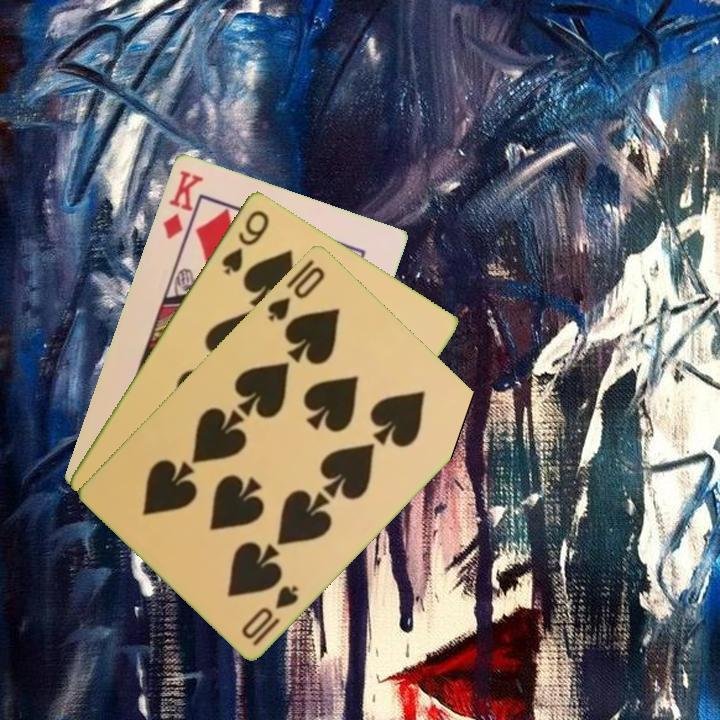10s: (238, 581, 302, 649), (264, 262, 328, 324)
9s: (218, 205, 272, 277)
Kd: (159, 166, 206, 250)
